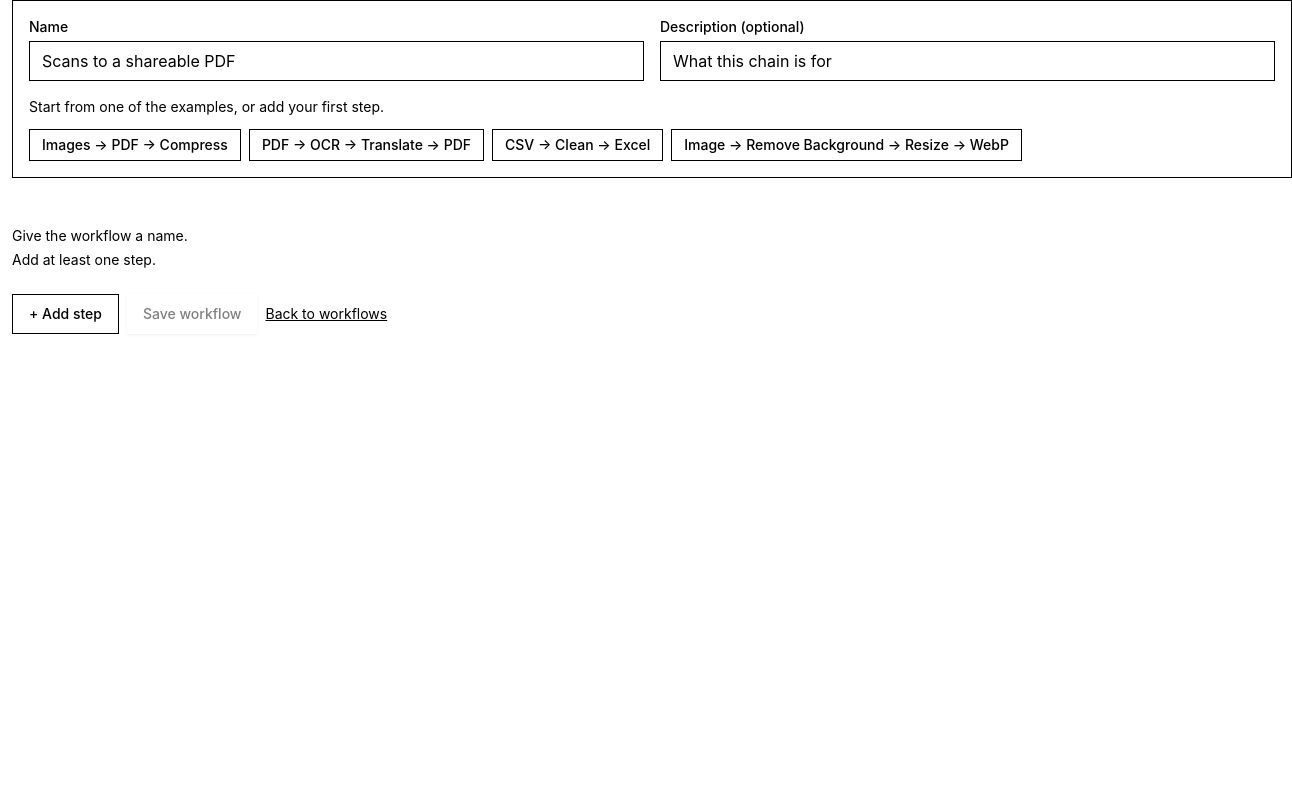
Test: the workflow builder › fills the builder from one of the master plan examples
What coordinates should you click on to do the following:
click the button "CSV → Clean → Excel"
I would click on:
 (578, 145)
Its box is [492,129,663,161].
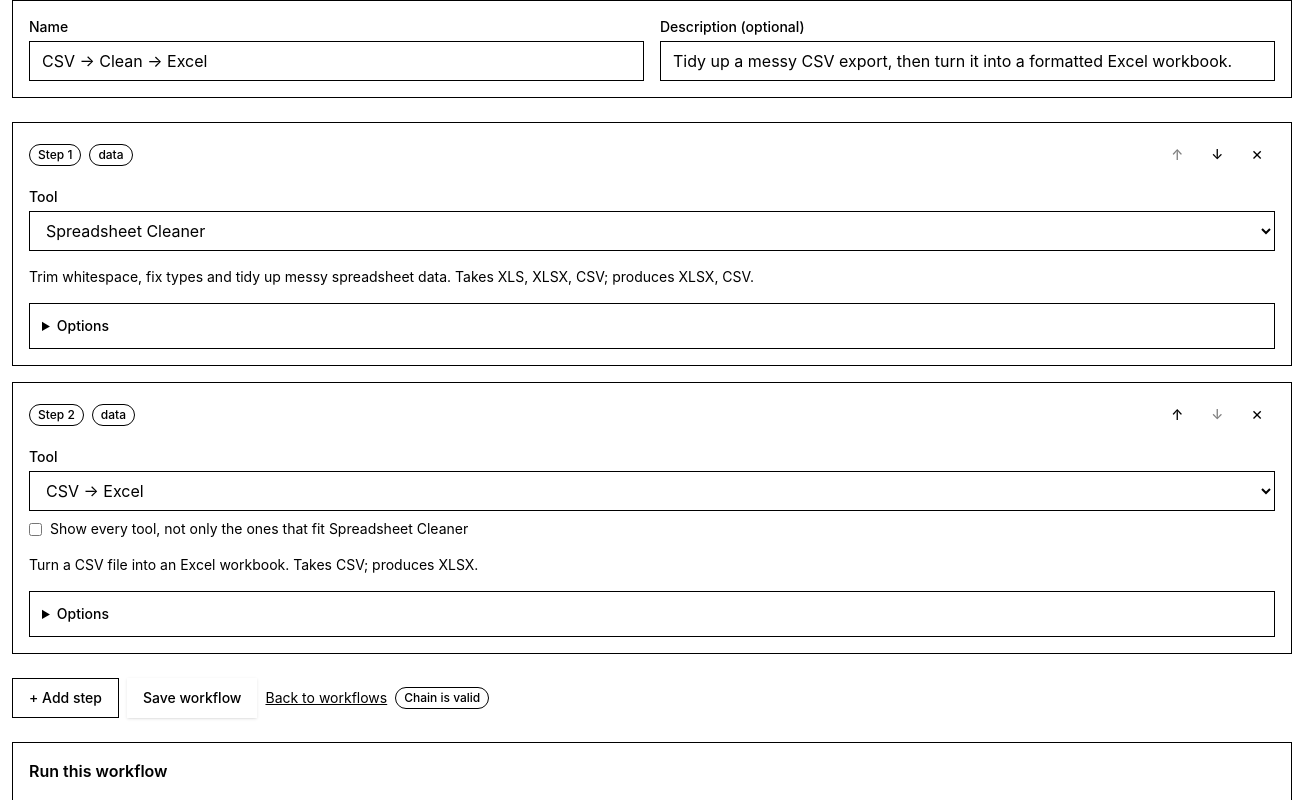
Expected: the element with test id "workflow-step-1" is shown, [12,382,1291,654]
Expected: the field labelled "Name" holds "CSV → Clean → Excel", [29,41,644,81]
